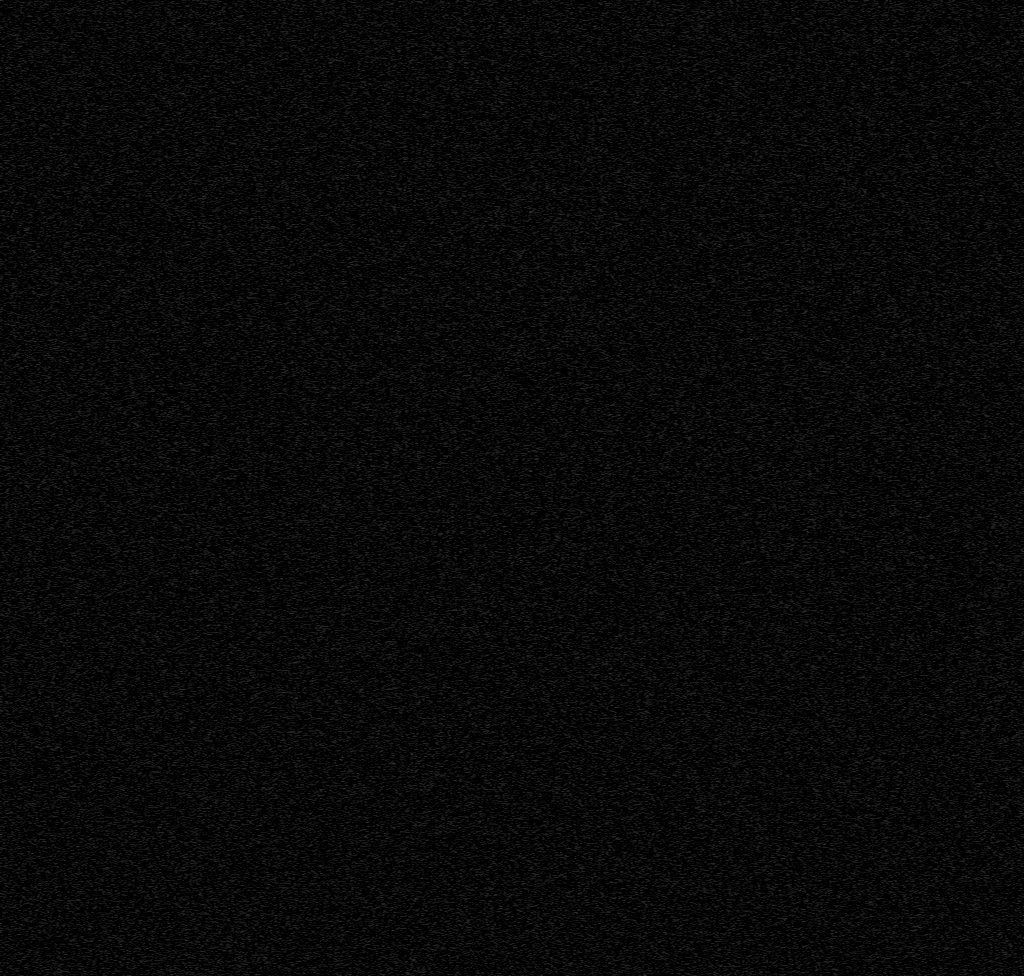wv_am: (41, 0, 47, 975), (318, 0, 324, 967)
wv_cw: (719, 0, 747, 976)
